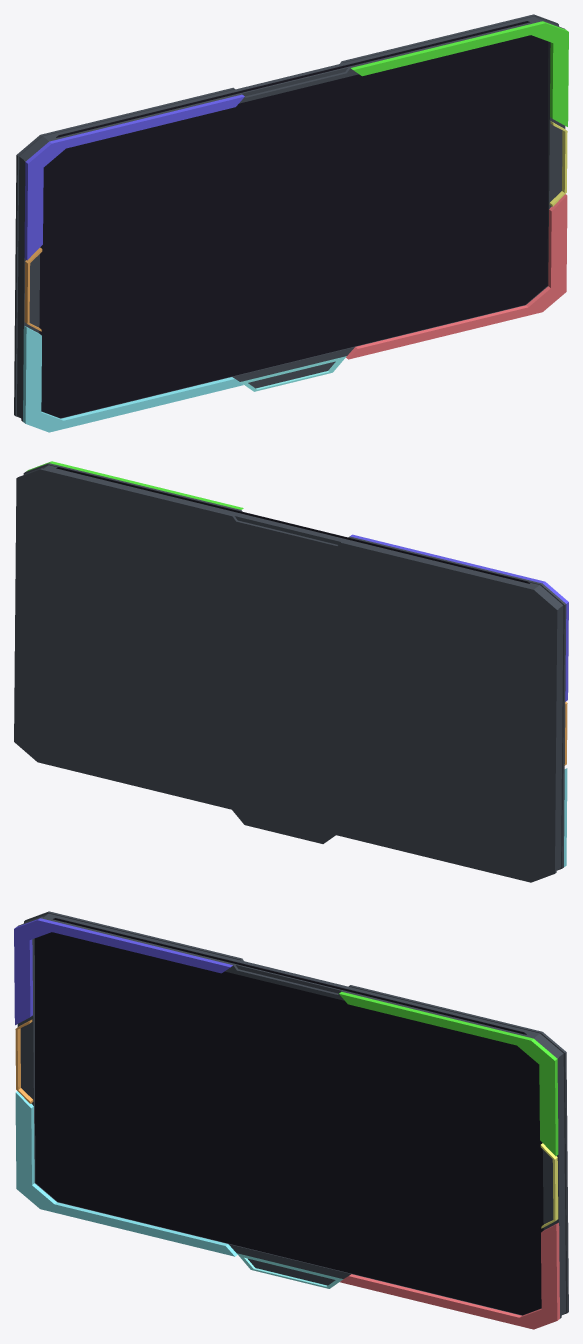
The model's file is bilboard.fbx.
3 views of the same model, one above another, from view 1: azimuth 30°, elevation 25°; view 2: azimuth 150°, elevation 25°; view 3: azimuth 330°, elevation 25° (orthographic).
Parts seen in each view (by area): view 1: polySurface1, polySurface2; view 2: polySurface2, polySurface1; view 3: polySurface1, polySurface2.
Boxes of the visible parts, x1,y1,x2,y2 form: polySurface1: [39, 21, 548, 418]; polySurface2: [14, 14, 568, 432]; polySurface2: [14, 461, 568, 882]; polySurface1: [56, 467, 529, 583]; polySurface1: [34, 918, 543, 1315]; polySurface2: [14, 911, 568, 1329].
Size of the model in its own units: 18.59 by 9.99 by 0.8612.
